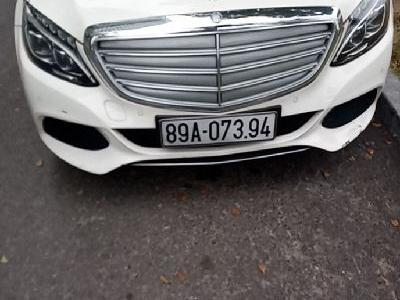lisence: (158, 111, 277, 146)
